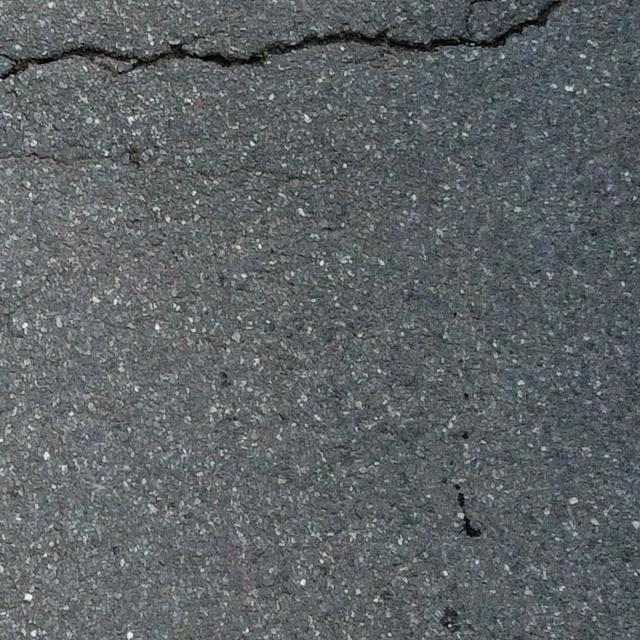TransverseCrack: (1, 1, 561, 84)
